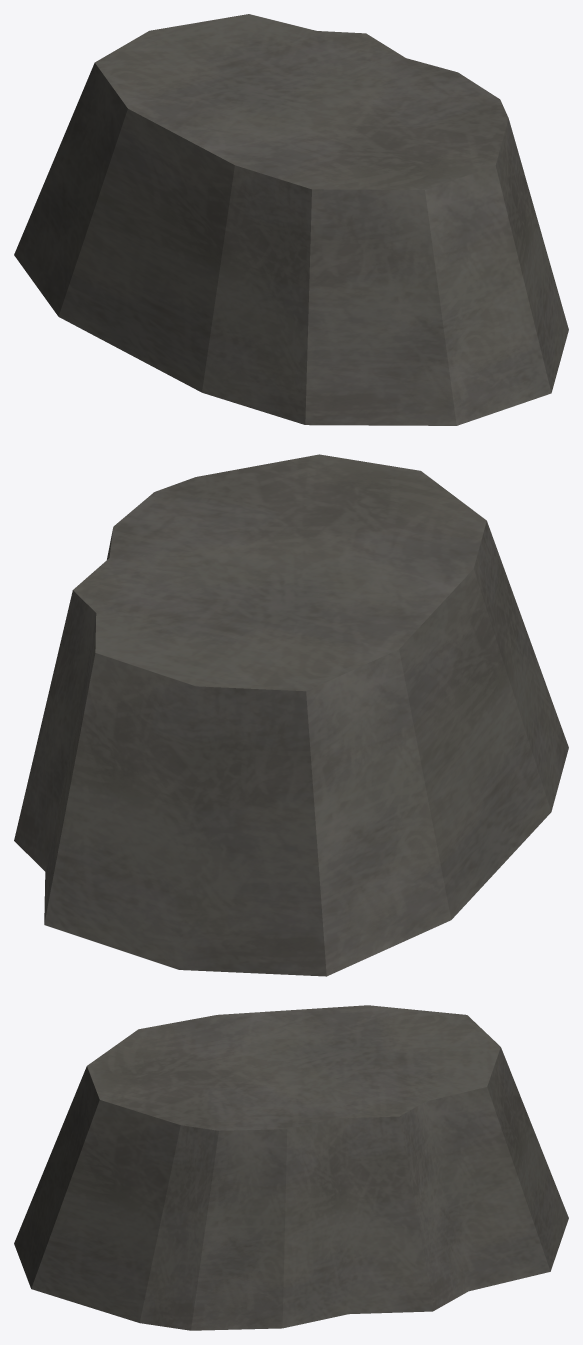
File: ZachMesaRock30.fbx
The picture shows the model from 3 angles, top to bottom: view 1: azimuth 30°, elevation 25°; view 2: azimuth 150°, elevation 25°; view 3: azimuth 270°, elevation 25°; orthographic projection. The views are drawn at different scales.
Visible parts, largest first — view 1: ZachMesaRock29; view 2: ZachMesaRock29; view 3: ZachMesaRock29.
Part boxes in pixels (x1,y1,x2,y2): ZachMesaRock29: (14, 14, 568, 425); ZachMesaRock29: (14, 454, 568, 976); ZachMesaRock29: (14, 1005, 568, 1330).
Bounding box in the file's own units: 3.98 × 2 × 5.54.
